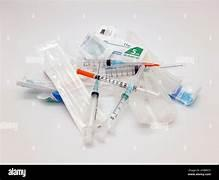Syringe: (105, 66, 143, 131), (76, 69, 129, 88), (84, 79, 98, 144), (82, 59, 181, 67), (82, 59, 159, 67), (103, 64, 139, 76)
